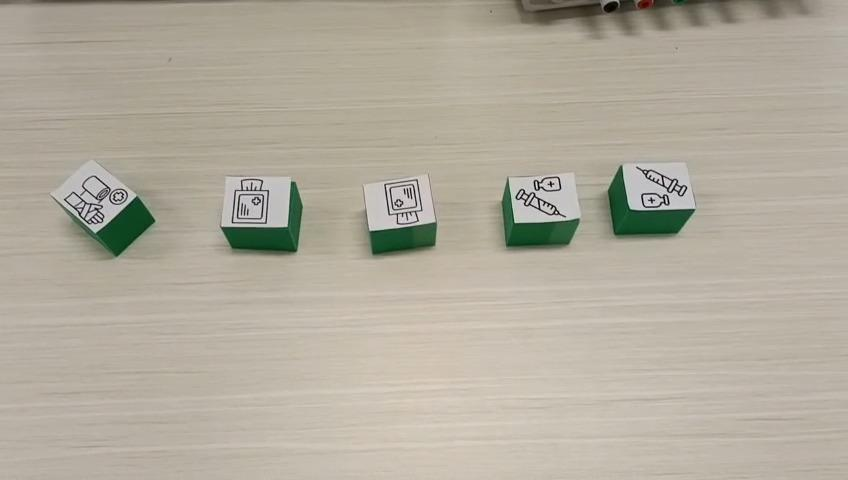Bandages: (47, 158, 154, 257)
Gauze: (220, 176, 303, 255), (361, 172, 438, 254)
antiseptic cream: (607, 160, 697, 235), (501, 172, 581, 247)
